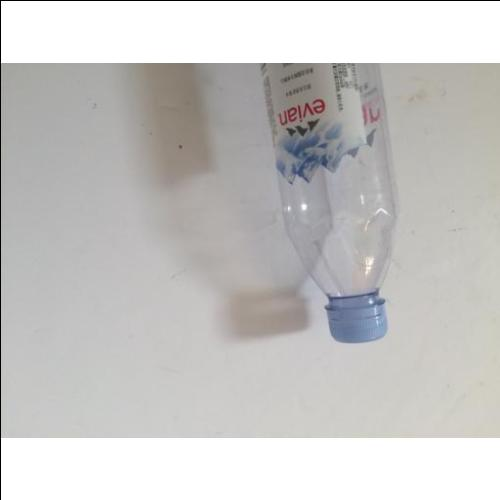plastic: (259, 64, 399, 343)
